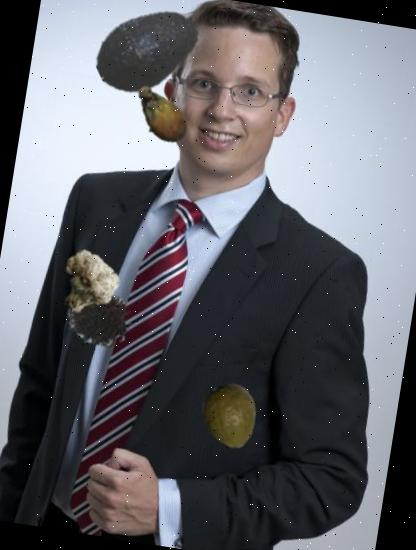Avocado: (86, 0, 208, 112)
Cactus: (124, 75, 200, 152)
Cauliflower: (50, 248, 122, 320)
Guava: (194, 380, 268, 454)
Rambutan: (59, 278, 139, 358)
